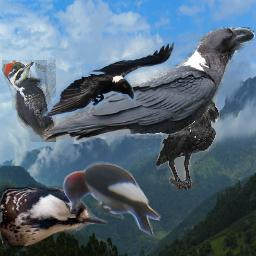Crow: (42, 27, 255, 143), (42, 40, 175, 117), (156, 97, 220, 190)
Woodpecker: (60, 161, 163, 237), (0, 182, 108, 249), (2, 60, 56, 142)
